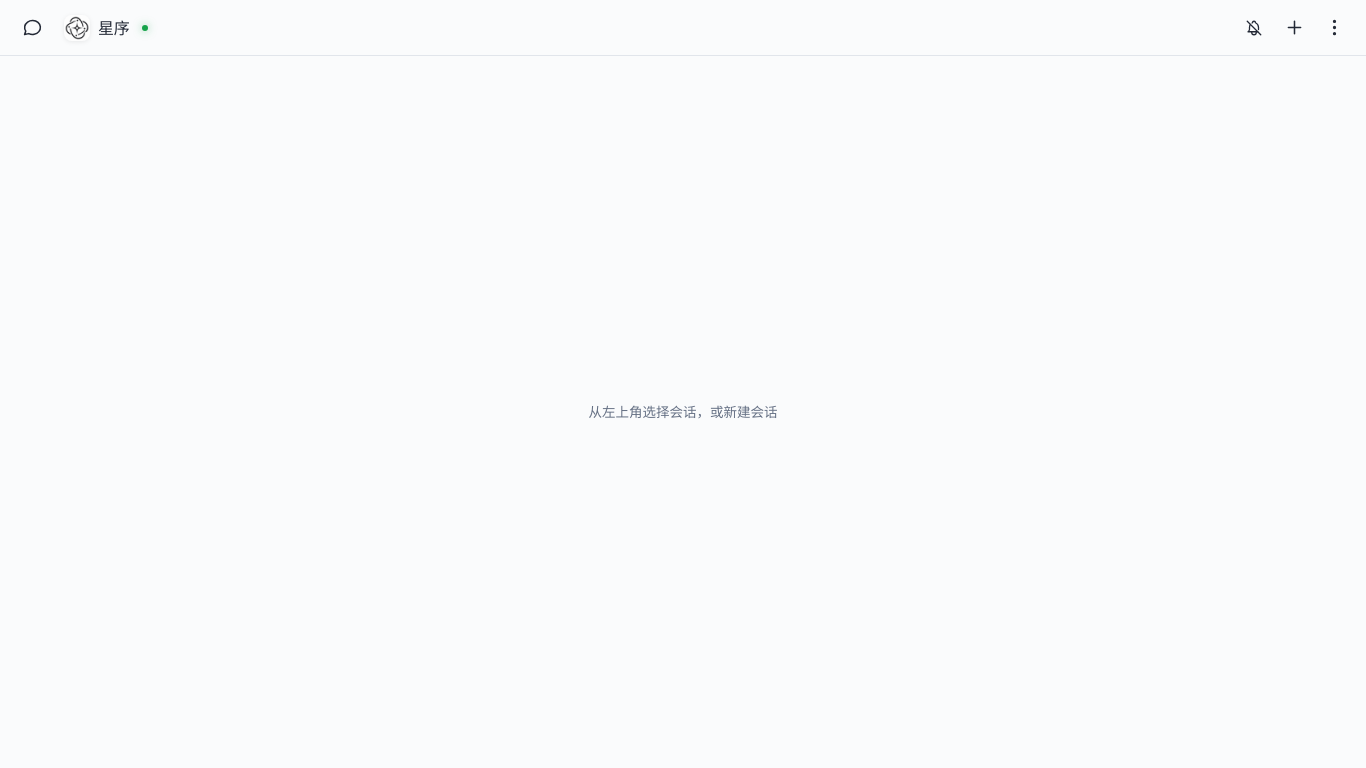
Scenario: MobileWorkspace Kernel Management Menu Integration › provides "内核管理" in settings menu and opens kernel management sheet
Click the button named "应用设置" at (1334, 28), box [1314,8,1354,48]
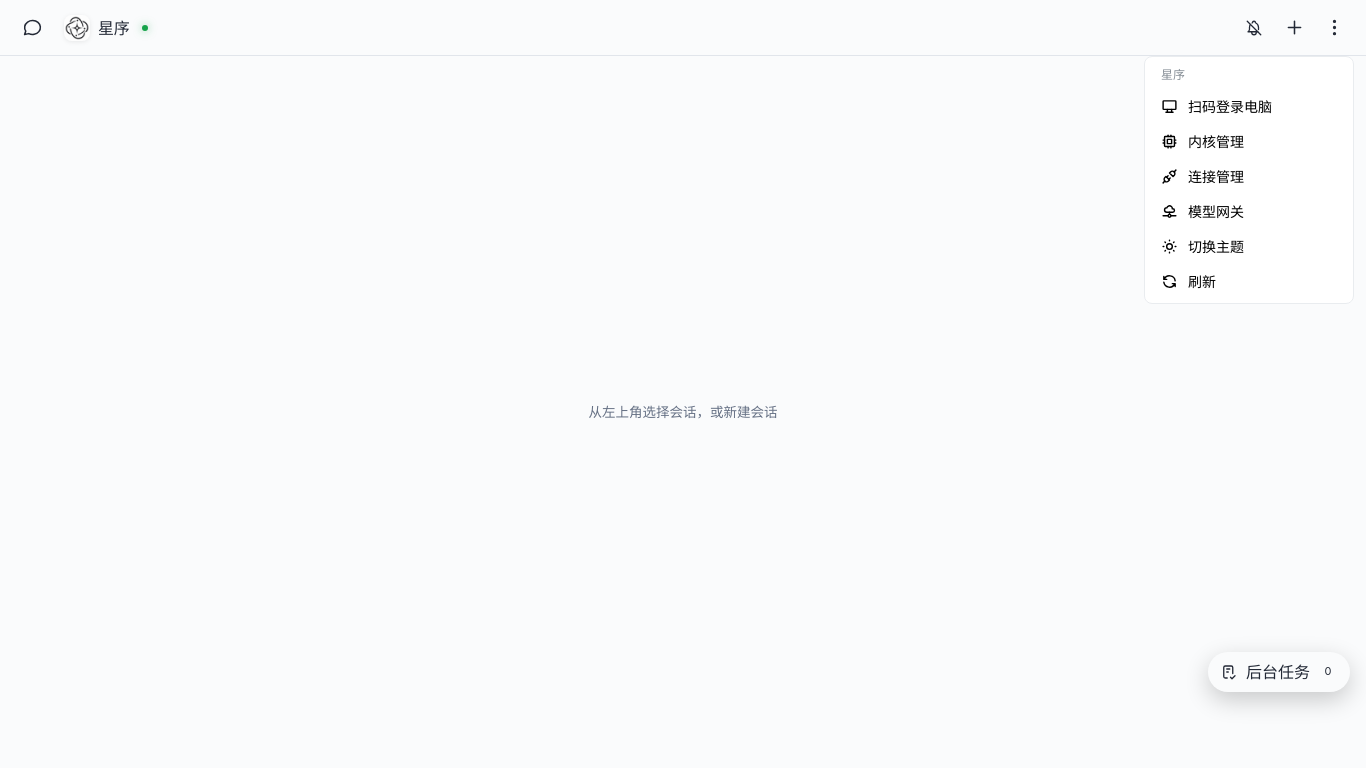
Expected: the menu item "内核管理" is shown
Click the menu item "内核管理" at (1249, 142), box [1149,124,1349,159]
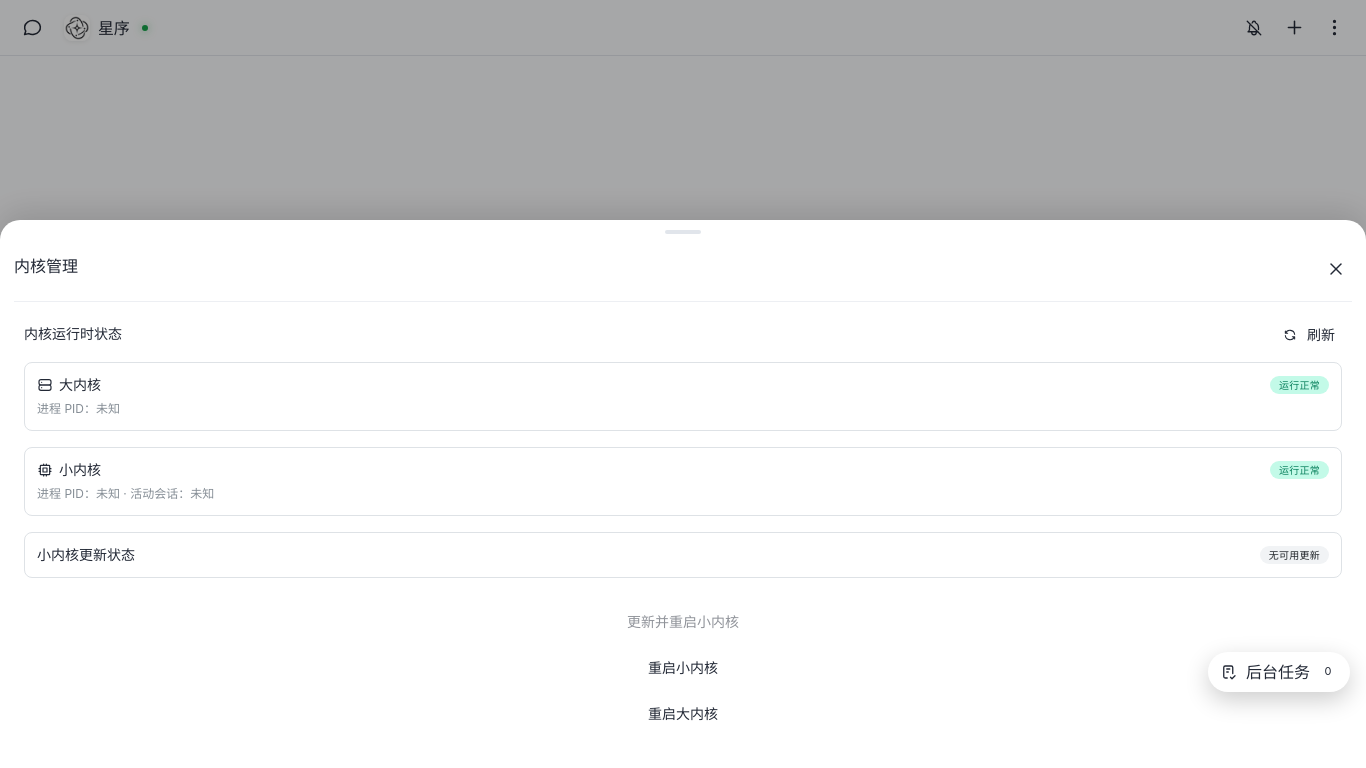
Expected: the heading "内核管理" is shown, [14,254,78,278]
Expected: the text "内核运行时状态" is shown, [24,324,122,345]
